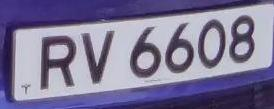0: (195, 13, 229, 74)
6: (125, 20, 167, 84), (161, 16, 199, 81)
8: (227, 9, 259, 71)
R: (36, 31, 82, 92)
V: (78, 27, 122, 88)
